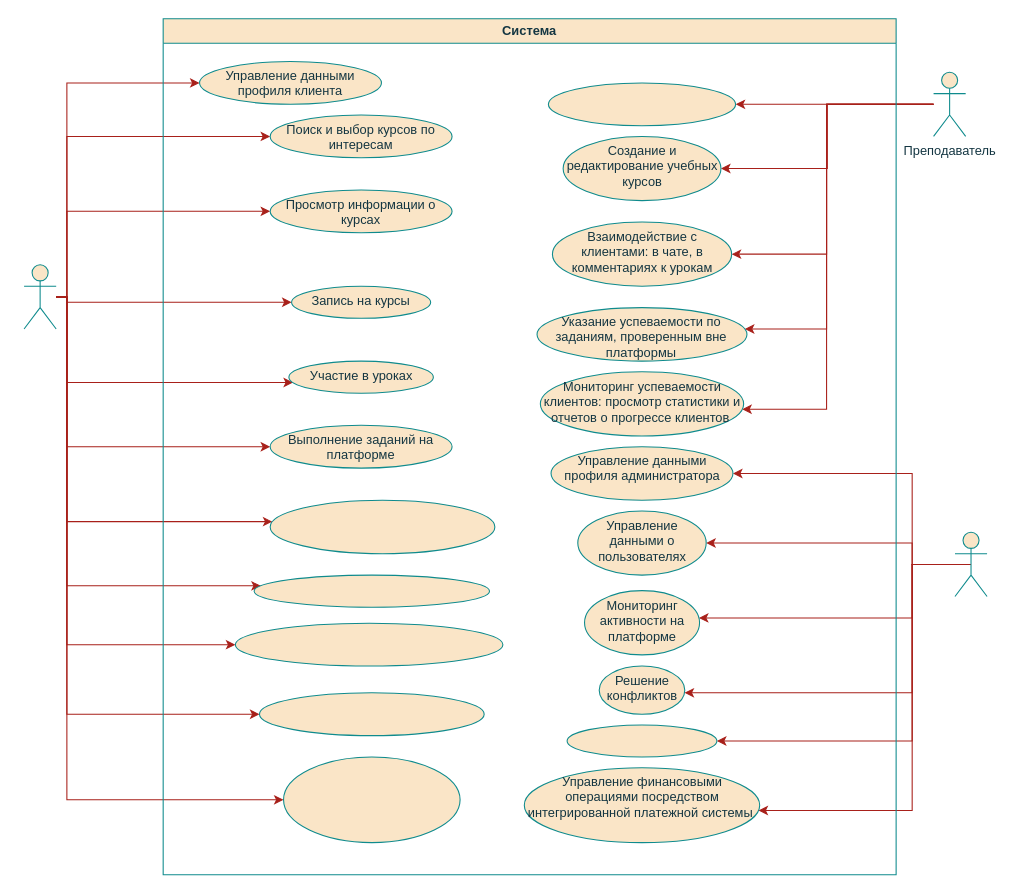
This 1036x893 diagram has some shape labels left out. The shapes that lost their labels are listed below. From the top down, each one's box as (x1, y1, x2, y2) in pixels, then its label:
(547, 82, 736, 126): Управление данными профиля преподавателя
(23, 264, 56, 329): Клиент
(269, 499, 495, 554): Предоставление результатов выполненных вне платформы заданий
(954, 531, 987, 597): Администратор
(253, 574, 490, 607): Просмотр прогресса обучения
(234, 622, 503, 666): Общение с преподавателем: в чате, комментариях к урокам
(258, 692, 484, 736): Общение с администратором: в чате, на форуме тех поддержки
(566, 724, 717, 757): Техподдержка
(282, 756, 460, 843): Оплата обучения посредством интегрированной платежной системы
